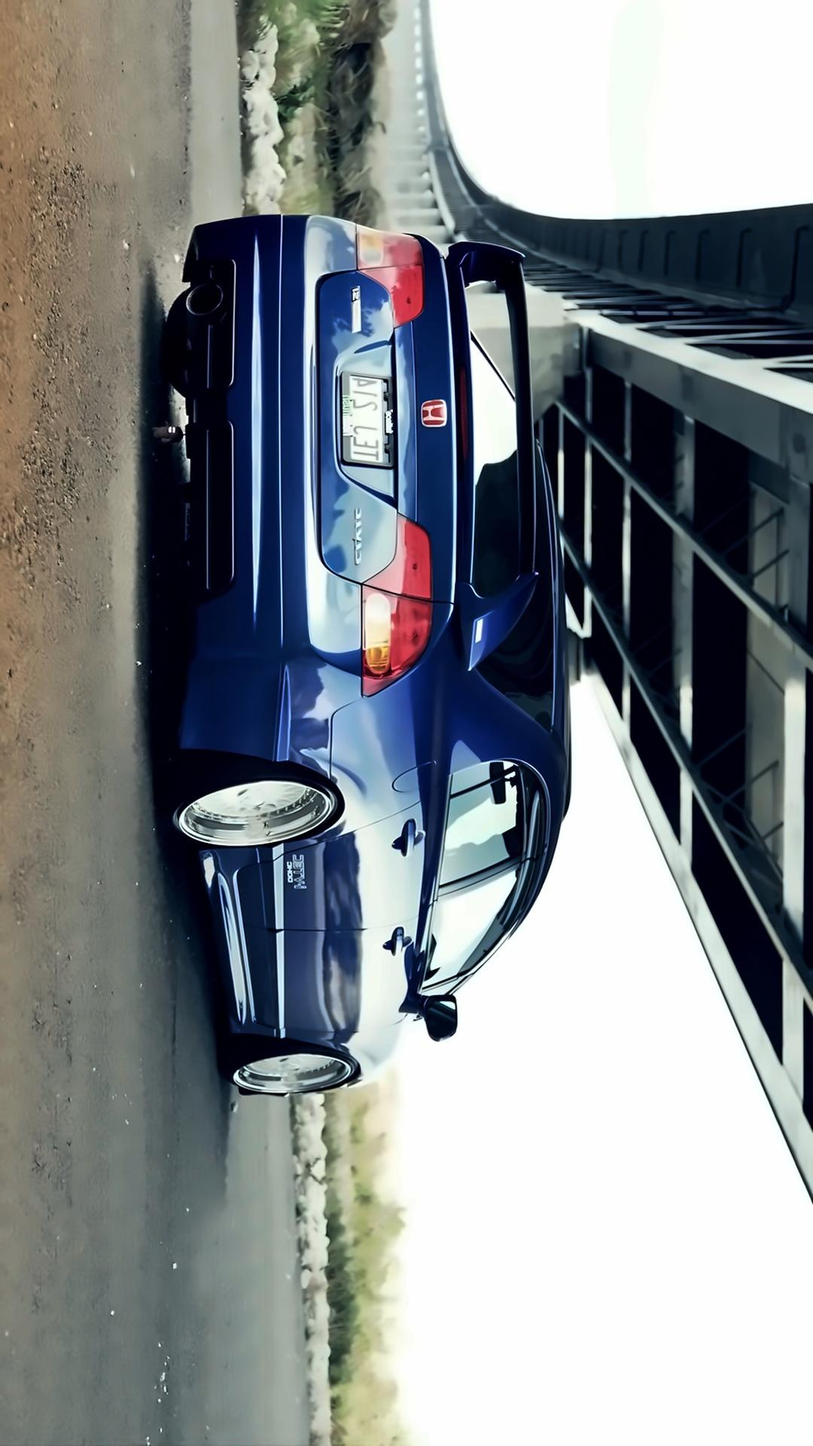Car boot: (310, 230, 470, 702)
Driver-s door - -F-R-: (147, 839, 598, 1032)
Fender - -R-R-: (245, 665, 484, 887)
Passenger-s door - -R-R-: (175, 755, 613, 935)
Rear bumper: (161, 206, 310, 775)
Rear light - -L-: (354, 221, 424, 332)
Rear light - -R-: (361, 514, 440, 701)
Side bumper - -R-: (196, 839, 286, 1057)
Side mirror - -R-: (408, 989, 470, 1047)
